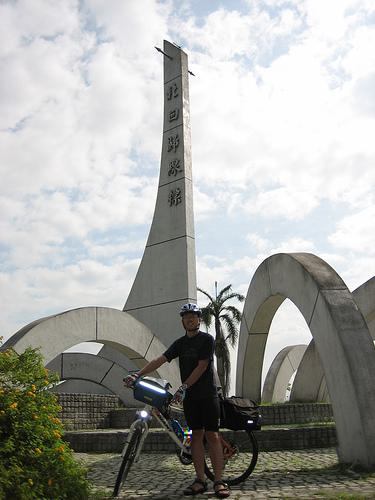car: (113, 372, 264, 497)
person: (123, 303, 231, 497)
